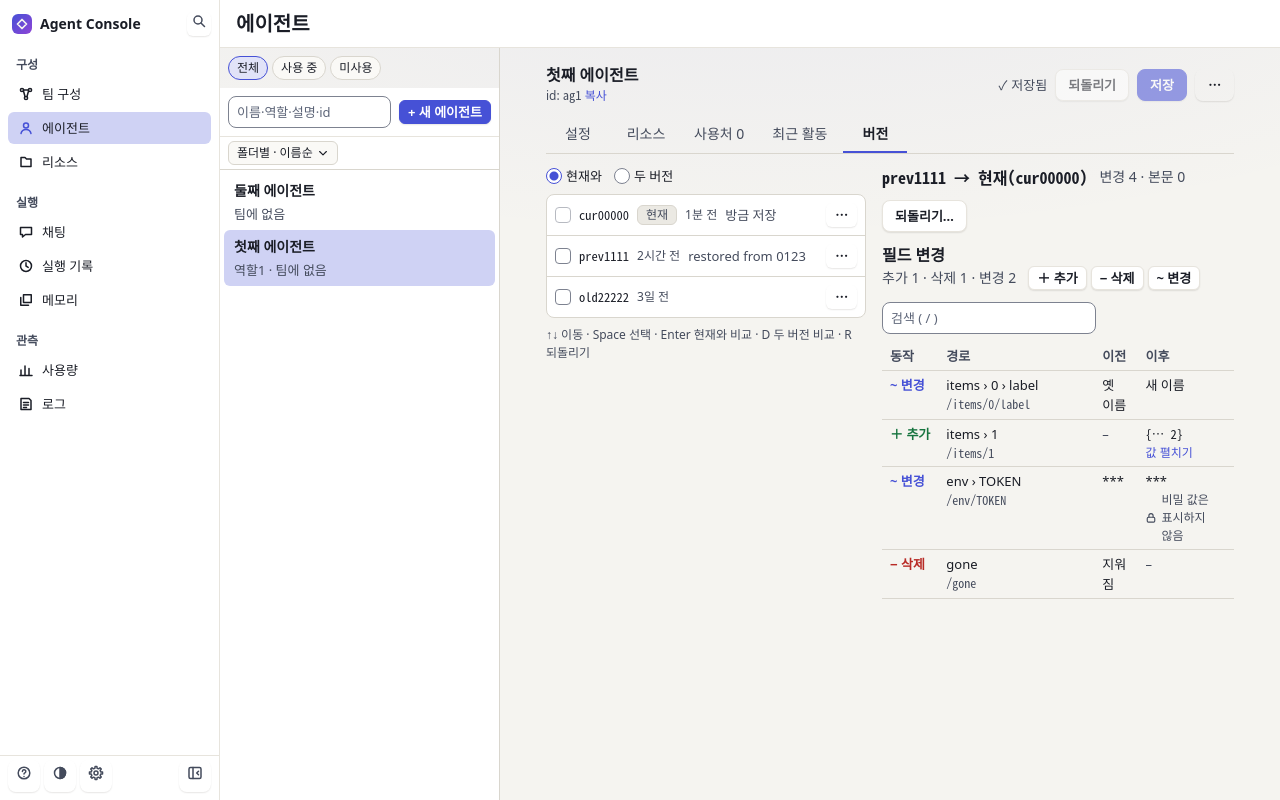
it: 되돌리기 › 확인 다이얼로그: 취소가 기본 포커스, 바뀌는 수와 범위 안내를 보인다
Expected: the list named "버전 목록" is shown, [546, 194, 866, 318]
Click the button "되돌리기…" at (924, 216), box [882, 200, 967, 232]
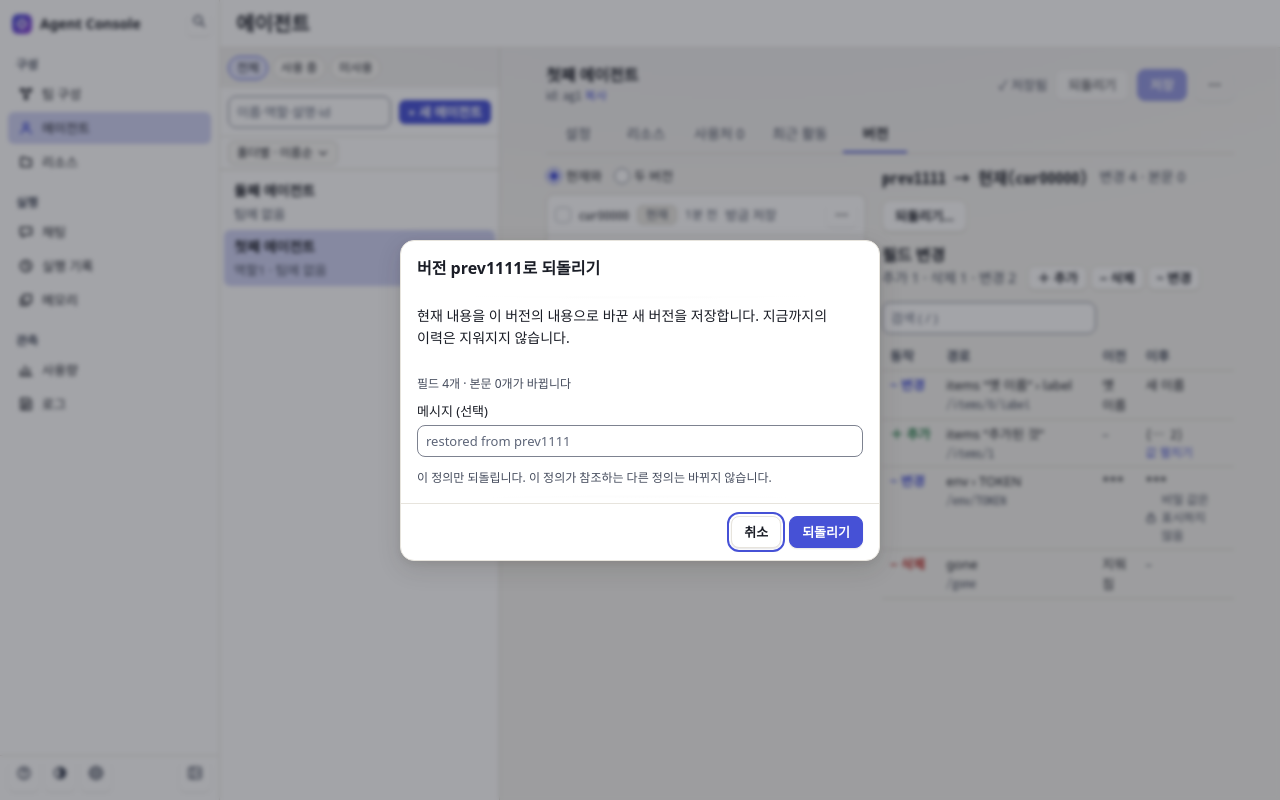
Result: the text "필드 4개 · 본문 0개가 바뀝니다" is shown at [417, 374, 571, 392]
Result: the text "이 정의만 되돌립니다. 이 정의가 참조하는 다른 정의는 바뀌지 않습니다." is shown at [417, 468, 772, 486]
Result: the field with placeholder "restored from prev1111" is shown at [417, 424, 863, 456]
